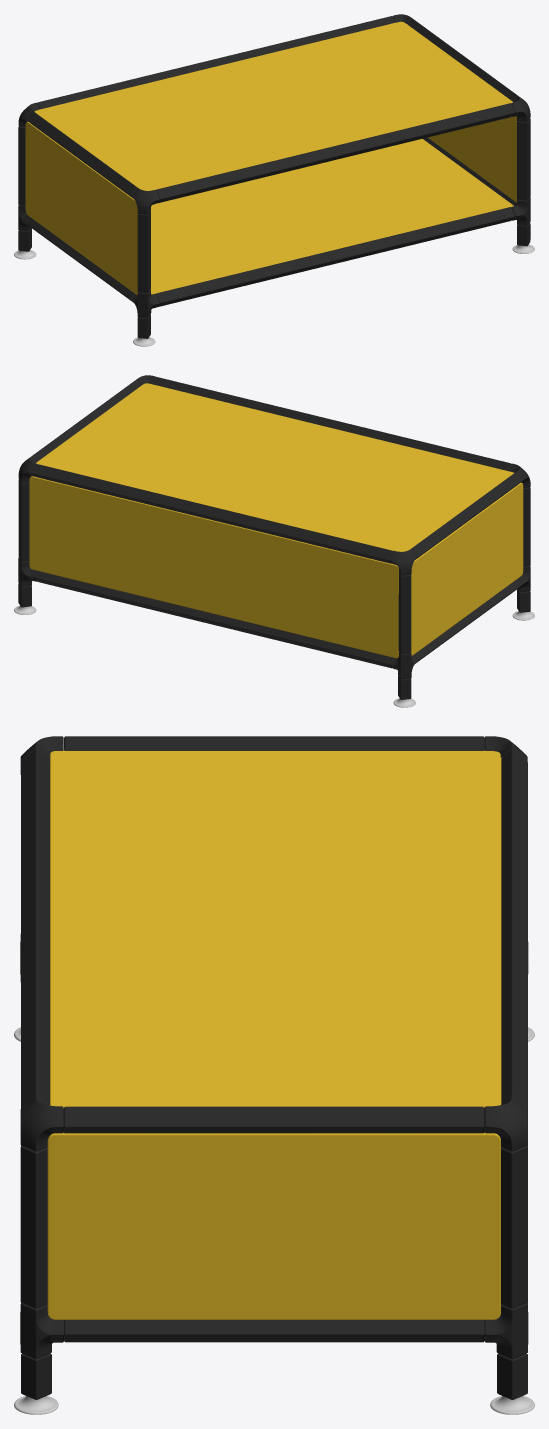
3 renders of one model, top to bottom at view 1: azimuth 30°, elevation 25°; view 2: azimuth 150°, elevation 25°; view 3: azimuth 270°, elevation 25°, orthographic. The views are drawn at different scales.
Parts seen in each view (by area): view 1: 729x374x154; view 2: 729x374x154; view 3: 729x374x154.
Boxes of the visible parts, bbox=[...] form: 729x374x154: bbox=[14, 14, 534, 346]; 729x374x154: bbox=[14, 375, 534, 707]; 729x374x154: bbox=[14, 736, 534, 1414].
Size of the model in its own units: 0.8189 by 0.2933 by 0.4632.
